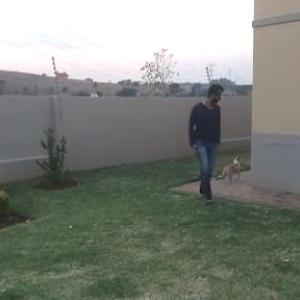follow: (190, 78, 227, 207)
